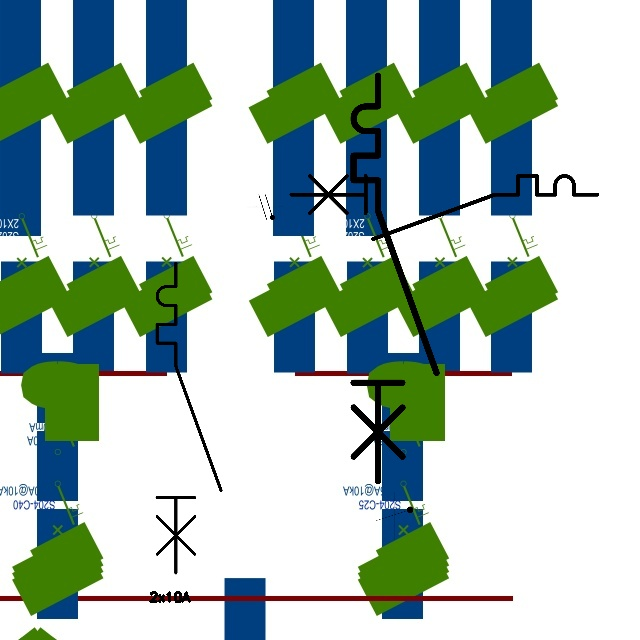interruptor_termomagnetico: (343, 65, 447, 492), (149, 255, 229, 581), (283, 168, 605, 246)
